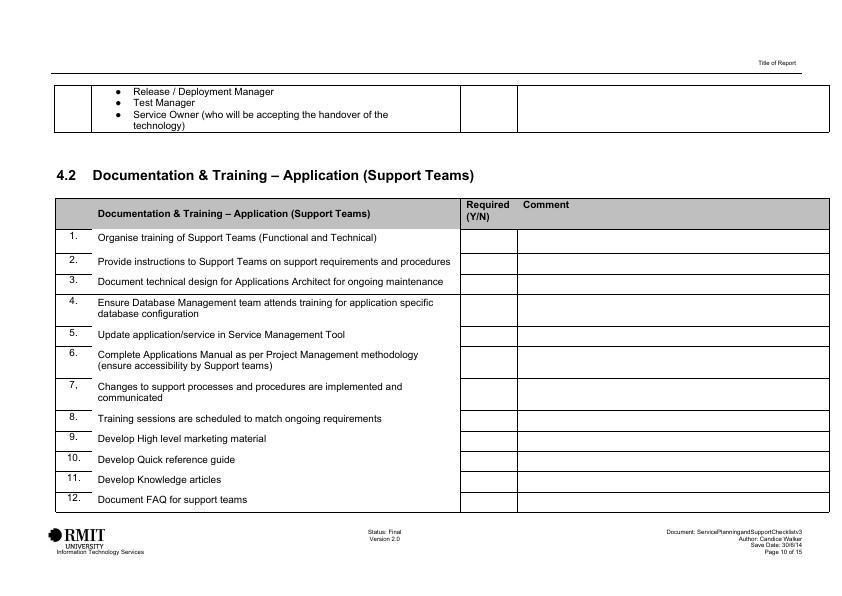table: (53, 195, 833, 515), (50, 81, 832, 136)
text: (55, 165, 475, 187), (664, 526, 807, 559), (363, 526, 406, 544)
